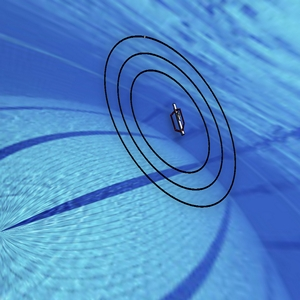circle: (95, 13, 249, 218)
submarine: (161, 95, 193, 141)
